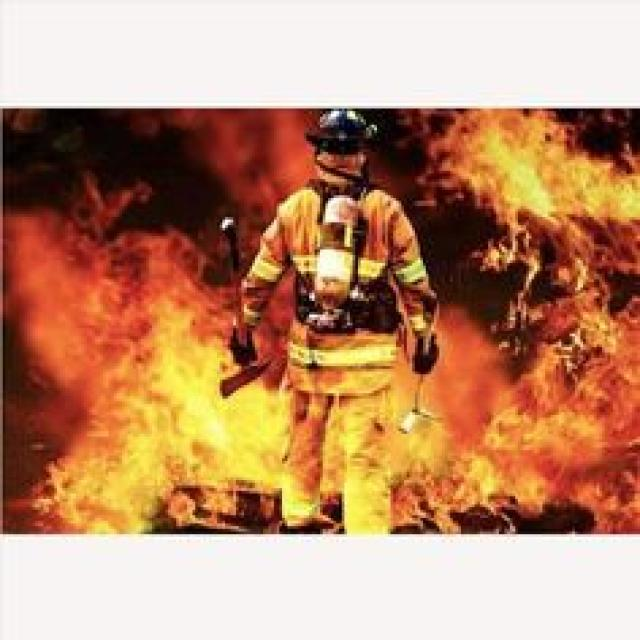Fire: (422, 107, 640, 529), (7, 206, 264, 534), (204, 115, 315, 189)
